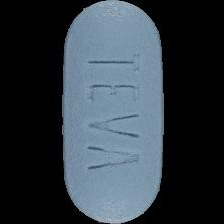0615-7699: (0, 0, 224, 224)
